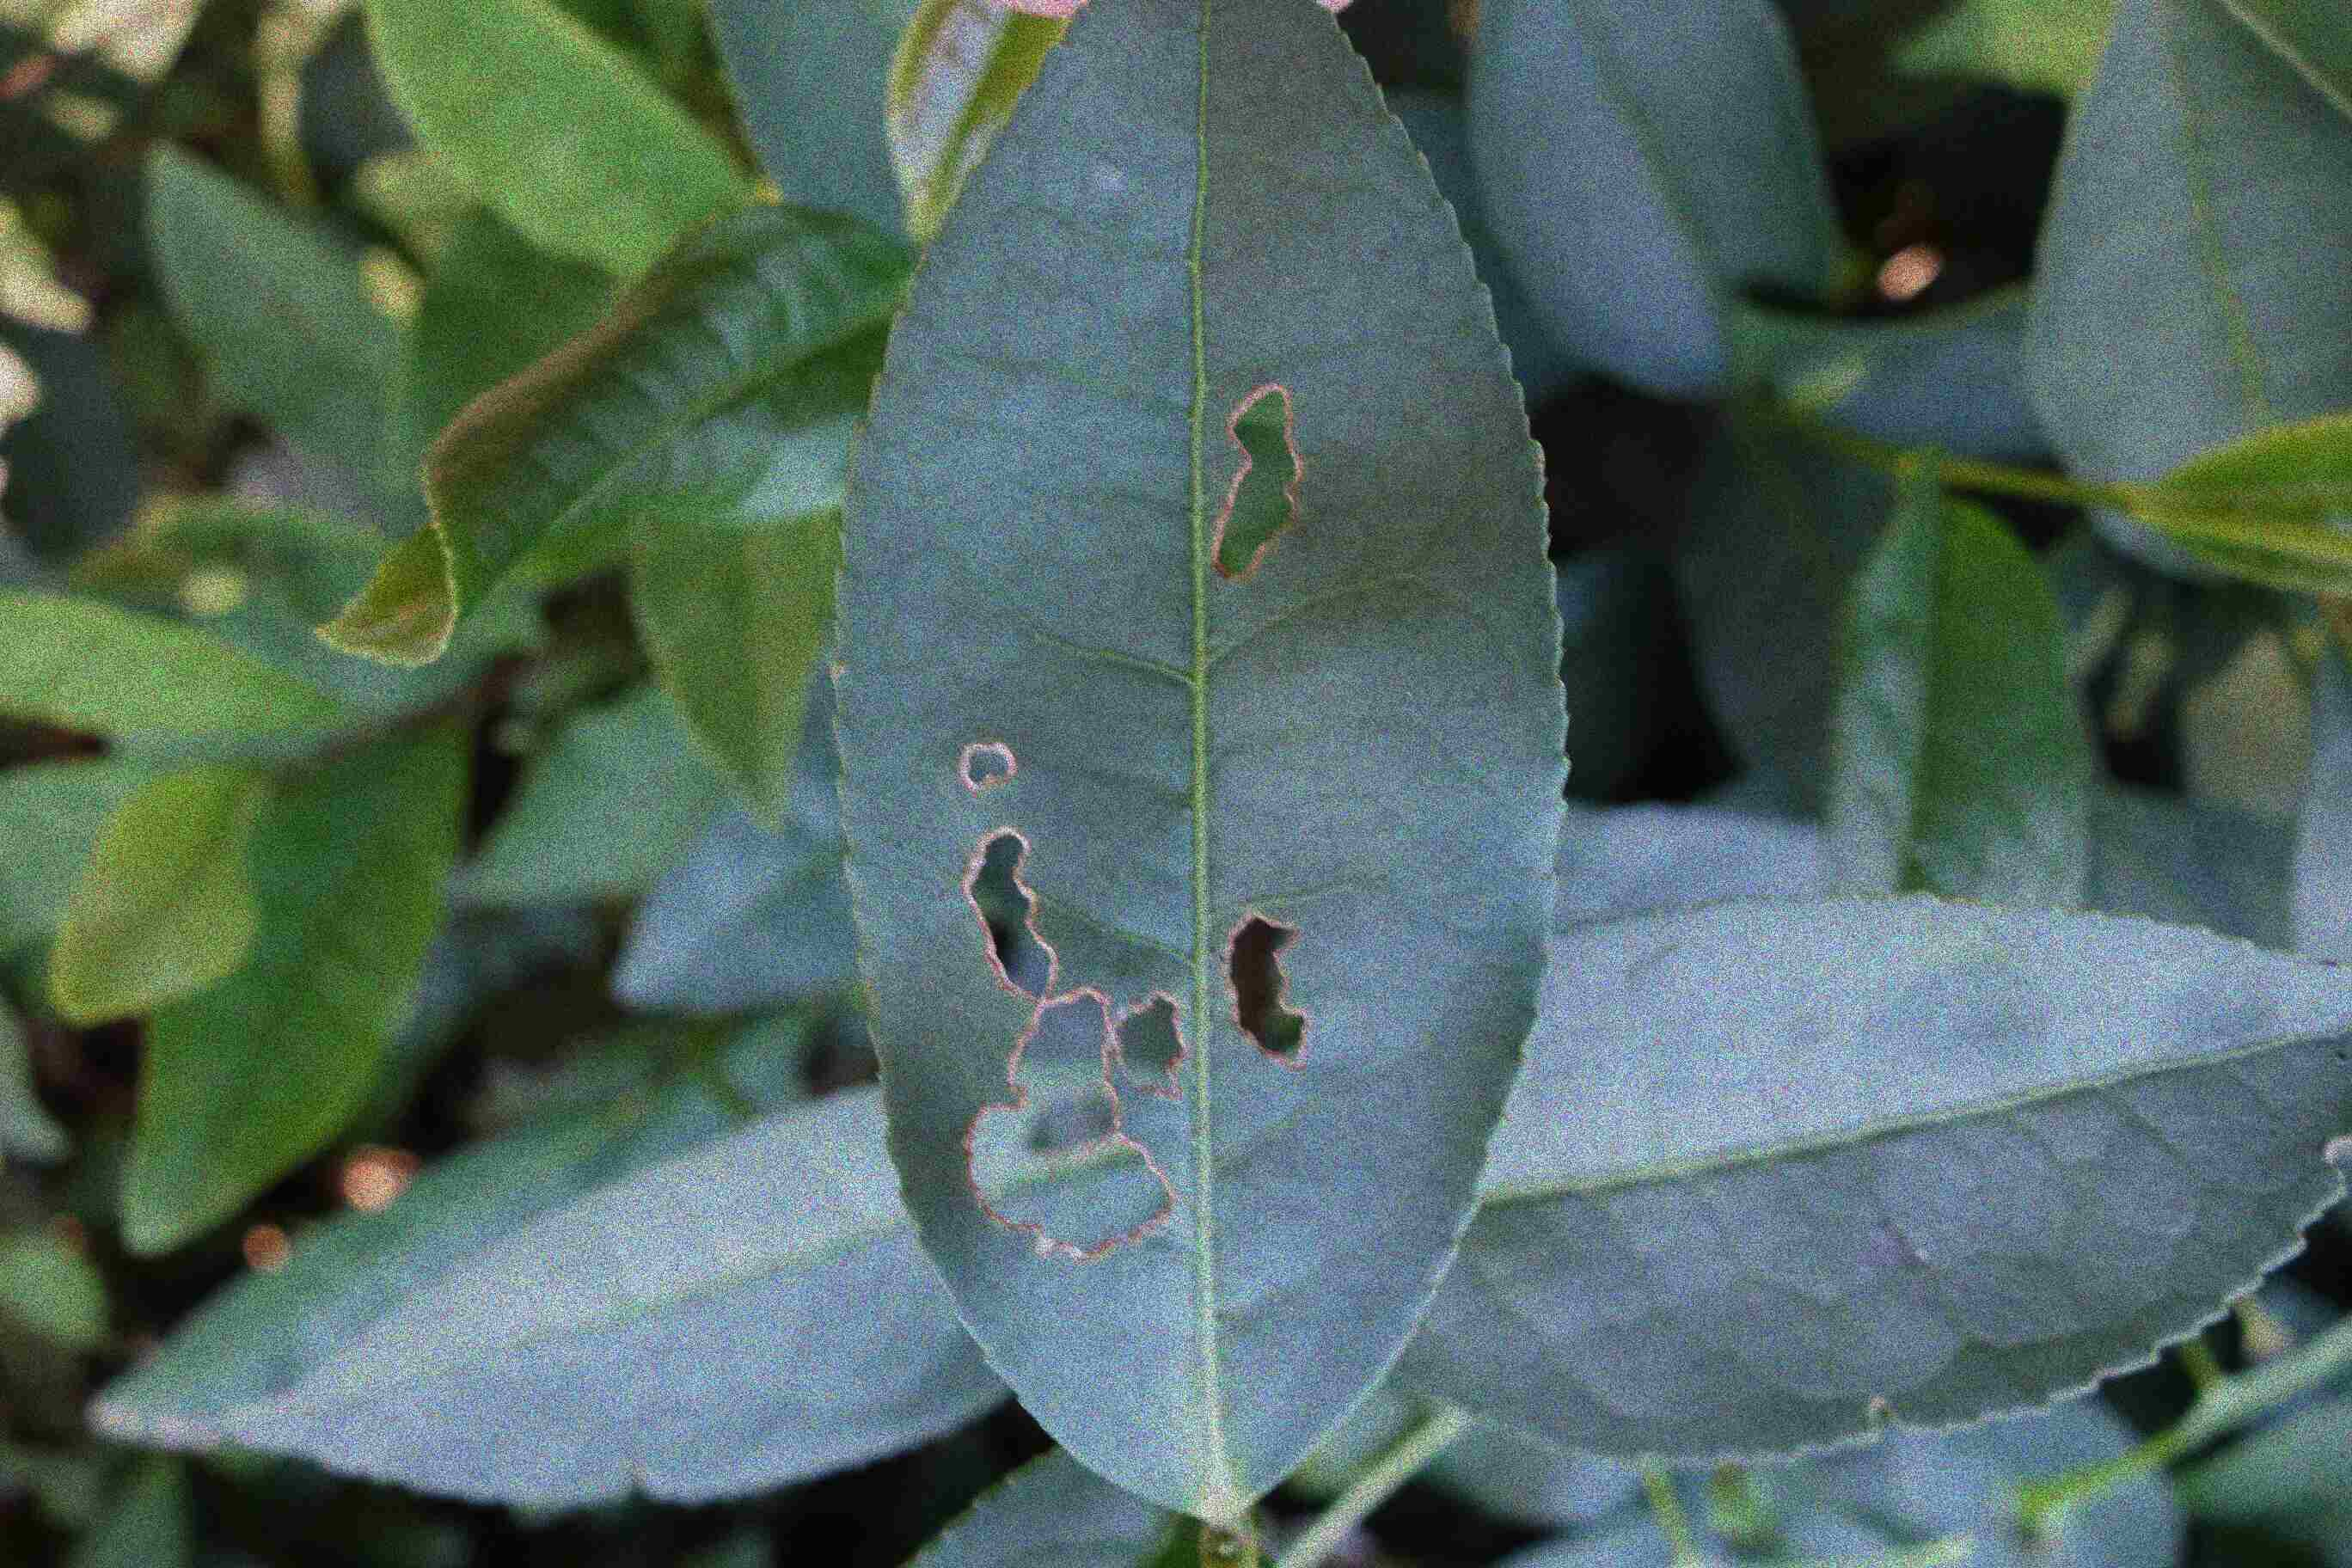chihuo_high: (829, 0, 1566, 1524)
